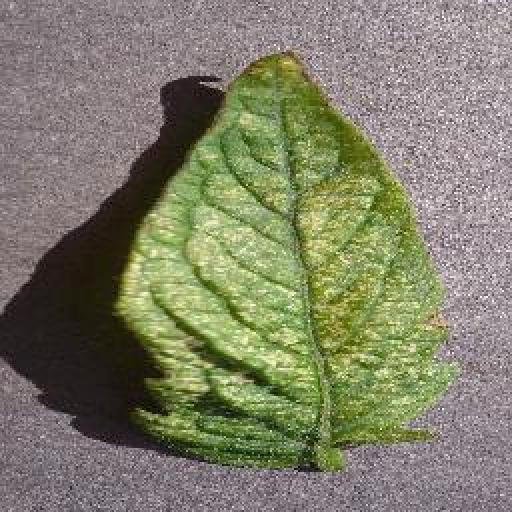disease_tomato: (110, 48, 452, 474)
